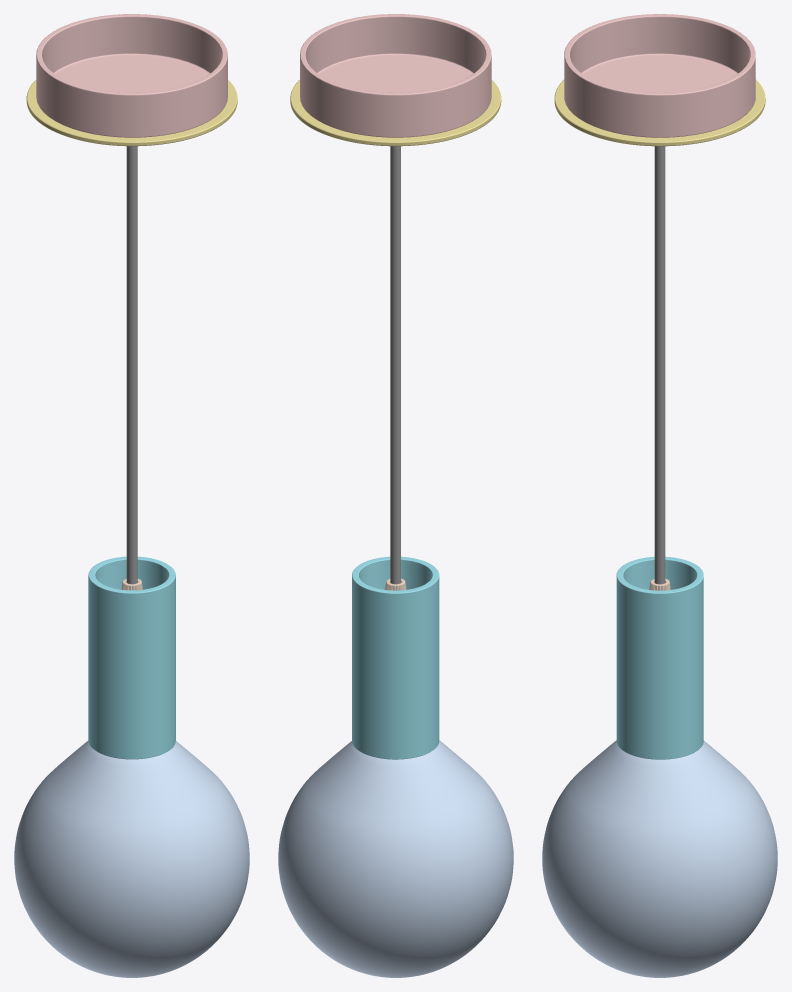
The model's file is Lampada.fbx.
3 views of the same model, side by side, from view 1: azimuth 30°, elevation 25°; view 2: azimuth 150°, elevation 25°; view 3: azimuth 270°, elevation 25° (orthographic).
Visible parts, largest first — view 1: Pinch_125_wishnya; view 2: Pinch_125_wishnya; view 3: Pinch_125_wishnya.
Boxes of the visible parts, <box> form: Pinch_125_wishnya: <box>14,14,249,977</box>; Pinch_125_wishnya: <box>278,14,513,977</box>; Pinch_125_wishnya: <box>542,14,777,977</box>.
Bounding box in the file's own units: 12283 × 52522 × 12270.
